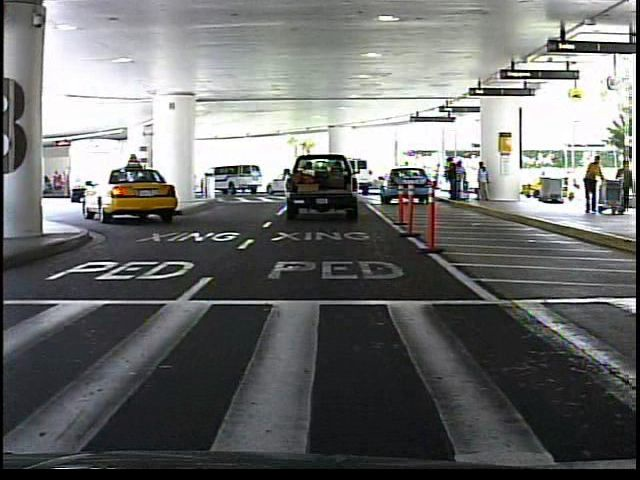person: (581, 152, 608, 218), (614, 157, 638, 214), (400, 158, 415, 193)
